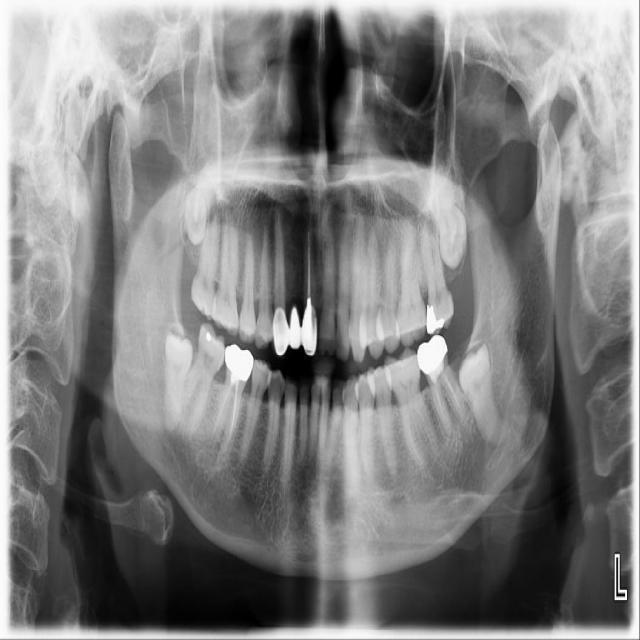Crown: (271, 303, 319, 356), (417, 335, 448, 374), (224, 343, 254, 382)
Filling: (426, 303, 445, 335), (430, 359, 444, 384), (231, 371, 239, 387), (206, 332, 212, 341)
Root Canal Treatment: (216, 383, 234, 423), (443, 372, 461, 412), (228, 386, 238, 437), (307, 235, 312, 303)
impacted tooth: (460, 346, 504, 438), (428, 187, 466, 269), (164, 331, 192, 427), (186, 164, 213, 245)
